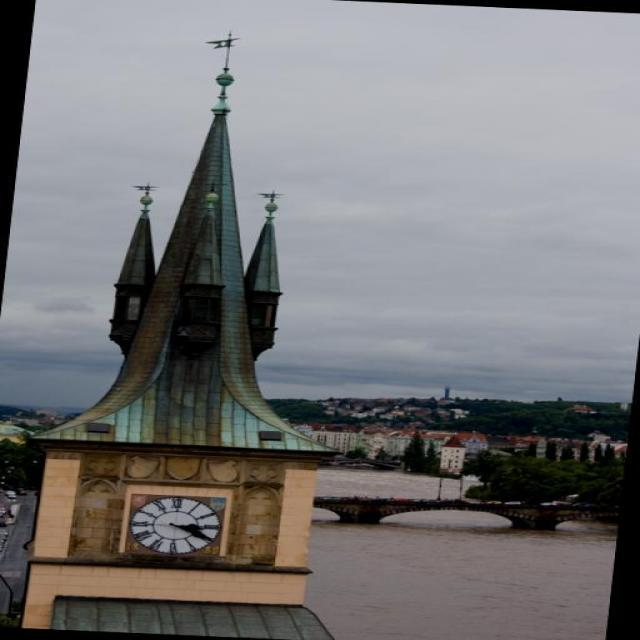flood: (290, 458, 625, 639)
